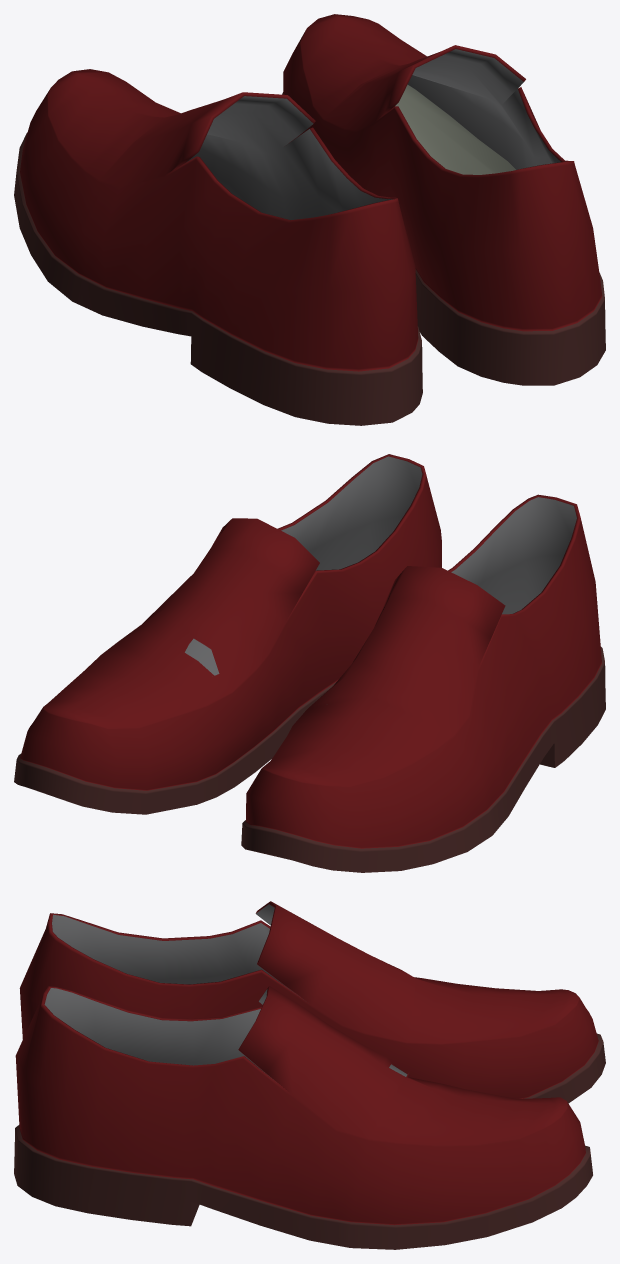
The model's file is Zapatos_Rojos.fbx.
3 renders of one model, top to bottom at view 1: azimuth 30°, elevation 25°; view 2: azimuth 150°, elevation 25°; view 3: azimuth 270°, elevation 25°, orthographic. The views are drawn at different scales.
Parts seen in each view (by area): view 1: Zapatos; view 2: Zapatos; view 3: Zapatos.
Boxes of the visible parts, box(x1,y1,x2,y2) form: Zapatos: box(14, 14, 605, 425); Zapatos: box(14, 454, 605, 872); Zapatos: box(14, 901, 605, 1249).
Bounding box in the file's own units: 2219 × 1048 × 2830.
